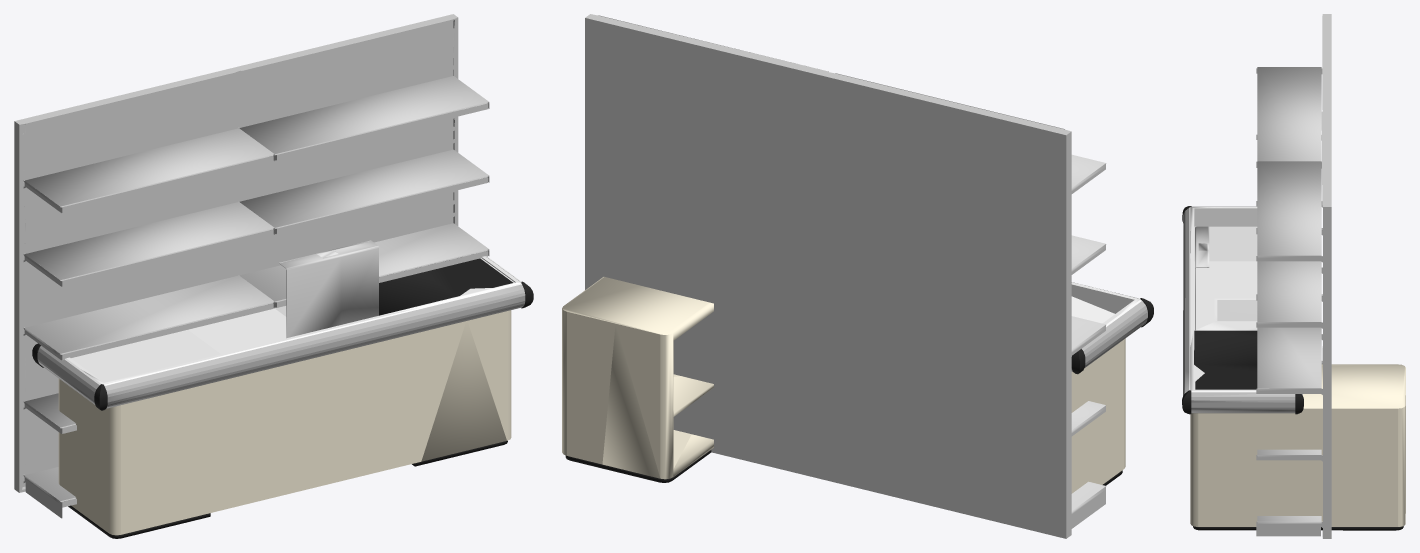
Rendered from storeprops.glb.
3 views of the same model, side by side, from view 1: azimuth 30°, elevation 25°; view 2: azimuth 150°, elevation 25°; view 3: azimuth 270°, elevation 25° (orthographic). The views are drawn at different scales.
Parts seen in each view (by area): view 1: shelf0, desk0; view 2: shelf0, desk0; view 3: desk0, shelf0.
Boxes of the visible parts, x1,y1,x2,y2 form: shelf0: [14, 14, 489, 518]; desk0: [32, 240, 533, 538]; shelf0: [585, 14, 1106, 538]; desk0: [562, 277, 1153, 493]; desk0: [1182, 206, 1405, 530]; shelf0: [1256, 14, 1331, 538].
Bounding box in the file's own units: 2.62 × 2.1 × 1.28.
